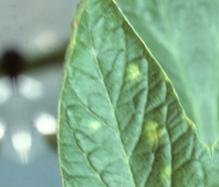Tomato mold leaf: (3, 0, 216, 187)
